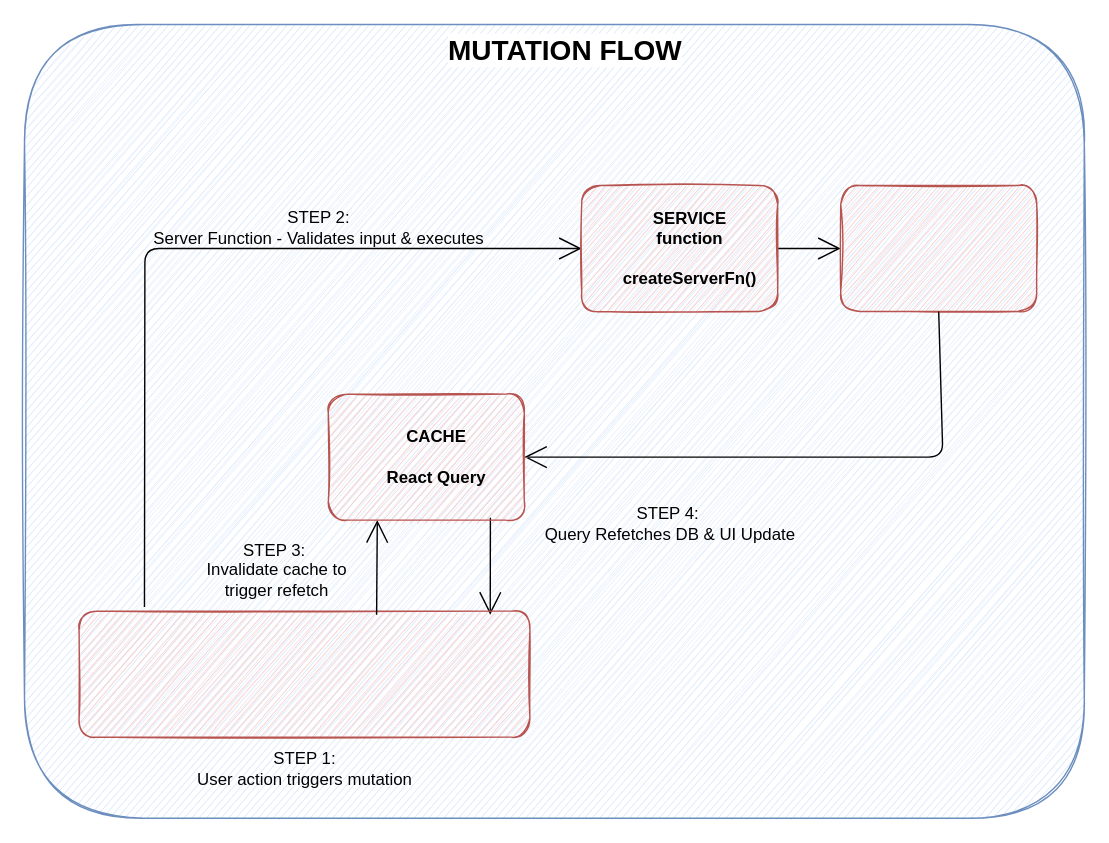
The diagram is 1109 pixels wide and 843 high, and some of its shapes have lost their labels. Each missing label, with the centre of its shape:
COMPONENT onClick onSubmit: the point at 304,673
DB Drizzle INSERT UPDATE DELETE: the point at 938,248
